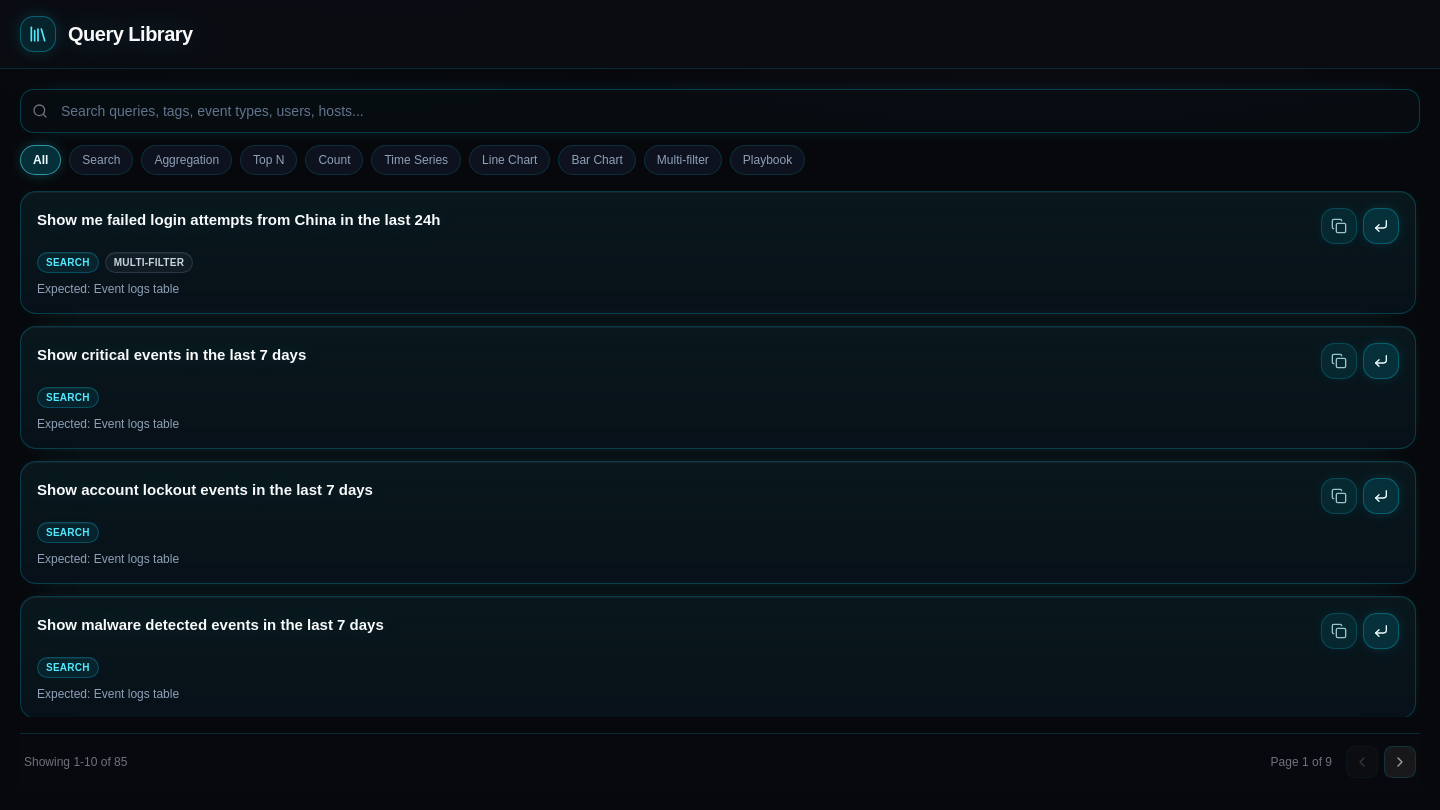
Scenario: QueryLibraryPage › filters by search input
The width and height of the screenshot is (1440, 810).
Search for something specific
Type "firewall block" into the field with placeholder "Search queries, tags, event types, users, hosts...".
click(720, 111); type("firewall block")  # box [20,89,1420,133]
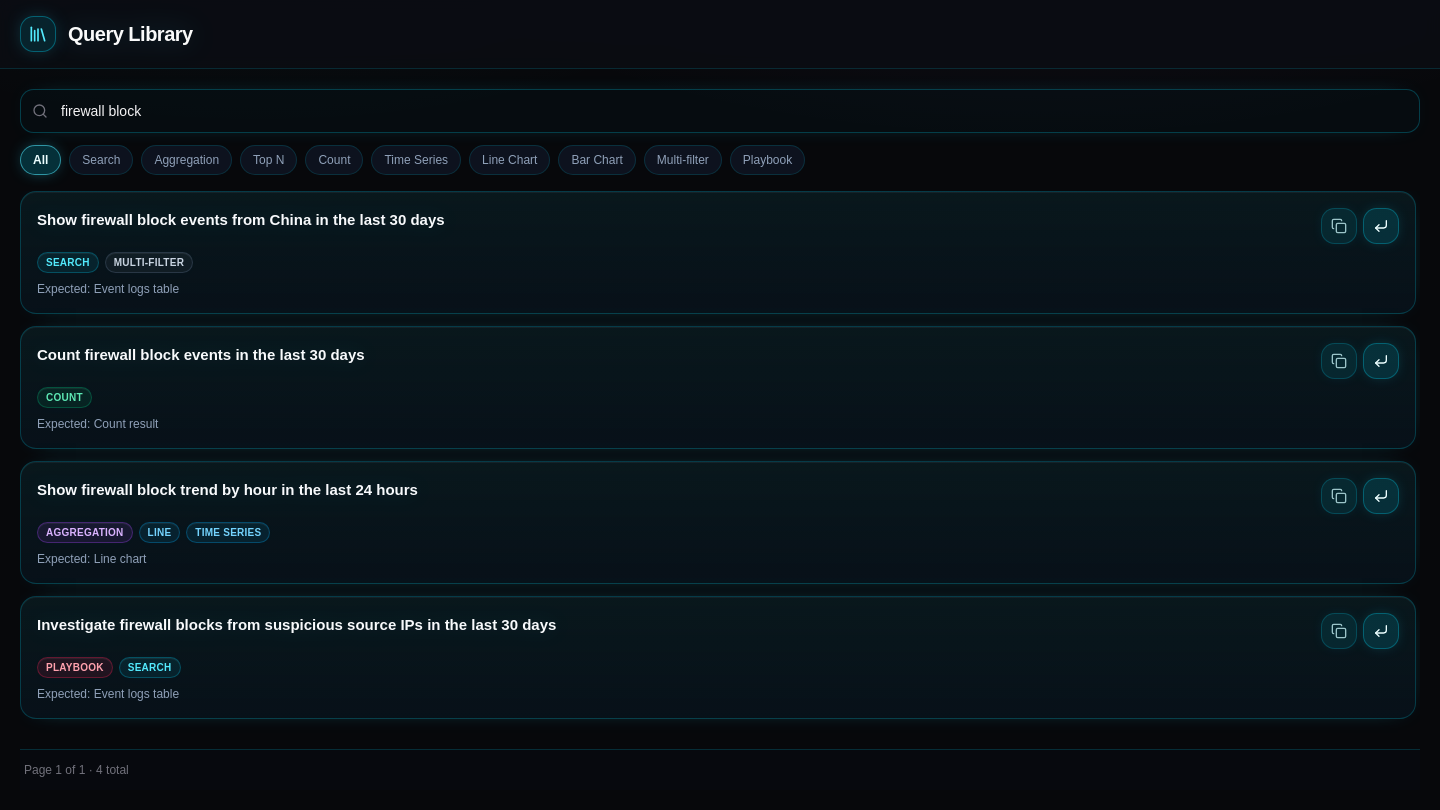
Now the text "Show firewall block events from China in the last 30 days" is shown, box [37,208,445,232]
